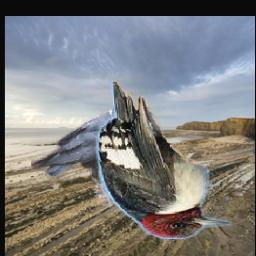Crow: (32, 91, 131, 206)
Woodpecker: (97, 83, 233, 240)
